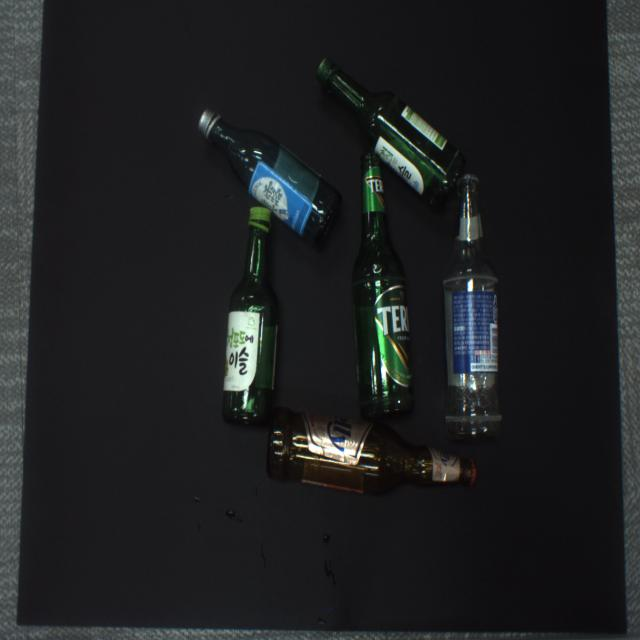beer-bottle: (267, 407, 476, 493), (351, 153, 415, 418), (442, 175, 503, 439)
soju-bottle: (315, 58, 463, 203), (199, 107, 341, 244), (222, 206, 277, 424)
